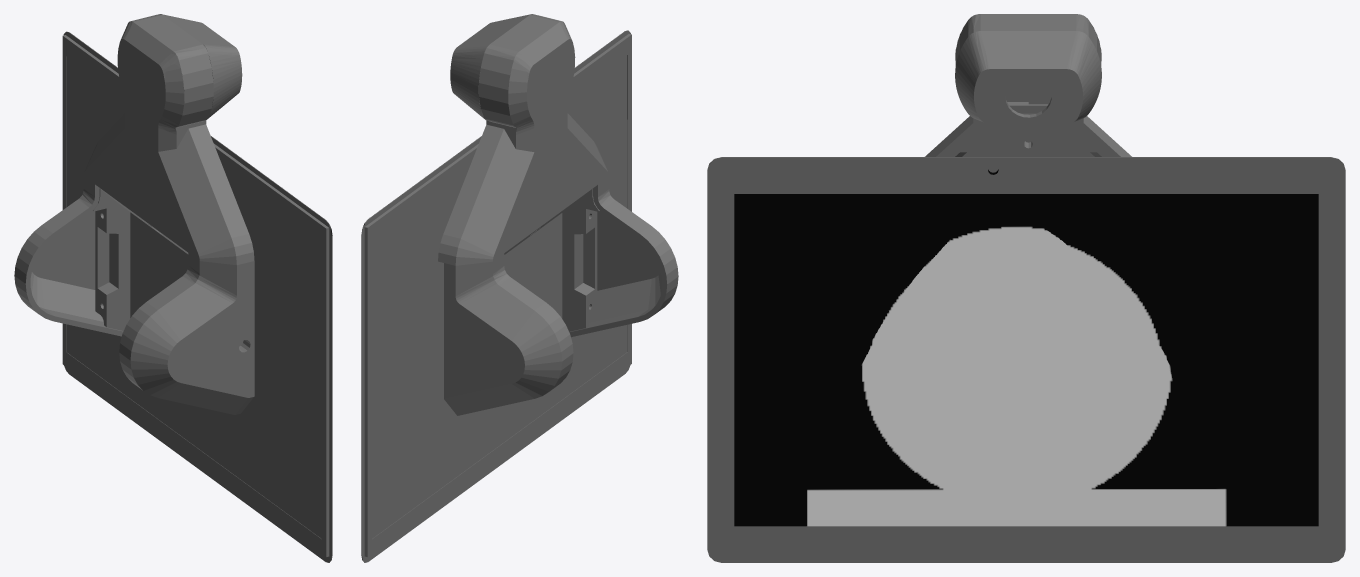
The model's file is display_link.dae.
The picture shows the model from 3 angles, left to right: view 1: azimuth 30°, elevation 25°; view 2: azimuth 150°, elevation 25°; view 3: azimuth 270°, elevation 25°; orthographic projection. The views are drawn at different scales.
Parts seen in each view (by area): view 1: display_link; view 2: display_link; view 3: display_link.
Part boxes in pixels (x1,y1,x2,y2): display_link: [14, 14, 332, 562]; display_link: [361, 14, 678, 562]; display_link: [707, 14, 1345, 562].
Bounding box in the file's own units: 0.0748 × 0.2375 × 0.215.
2 materials, 1 textured.
